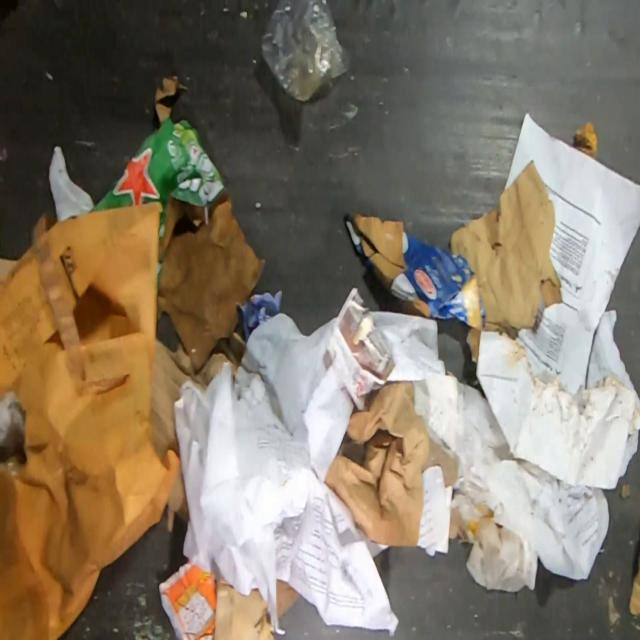cardboard: (449, 158, 640, 490), (90, 76, 267, 369), (150, 313, 246, 532), (344, 212, 486, 330), (628, 546, 640, 617), (0, 256, 21, 283)
rigid_plastic: (257, 1, 352, 103)
